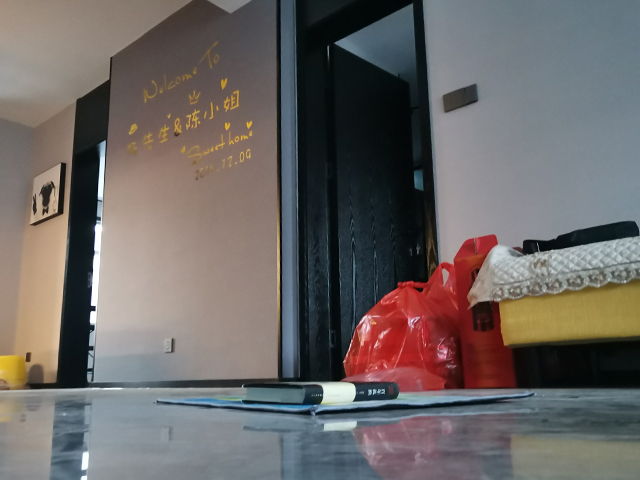book: (235, 378, 402, 408)
carpet: (155, 389, 537, 417)
sofa: (450, 218, 640, 392)
stool: (1, 351, 30, 390)
